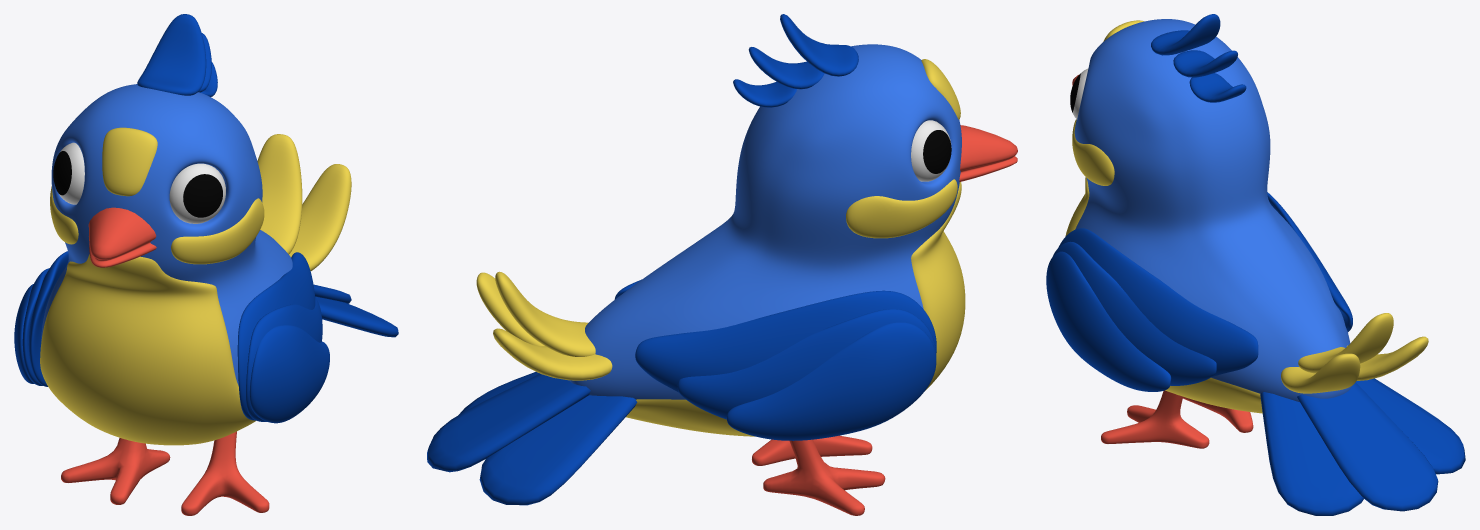
File: Bird.glb
The picture shows the model from 3 angles, left to right: view 1: azimuth 30°, elevation 25°; view 2: azimuth 150°, elevation 25°; view 3: azimuth 270°, elevation 25°; orthographic projection. The views are drawn at different scales.
Visible parts, largest first — view 1: Cube.011, Cube.029, Cube.009, Cube.012, Plane.050, Plane.052, Plane.048, Cube.037, Cube.039, Cube.034, Sphere.005, Plane.030 (+1 smaller); view 2: Cube.029, Cube.009, Plane.031, Plane.029, Cube.011, Cube.012, Cube.037, Plane.050, Plane.049, Cube.039, Plane.052, Sphere.006 (+4 smaller); view 3: Cube.029, Cube.009, Plane.029, Plane.030, Plane.031, Cube.034, Cube.011, Plane.048, Plane.050, Plane.052, Cube.012, Plane.049 (+4 smaller).
Boxes of the visible parts, x1=… form: Cube.011: x1=40, y1=254, x2=256, y2=445; Cube.029: x1=41, y1=84, x2=292, y2=385; Cube.009: x1=14, y1=251, x2=329, y2=423; Cube.012: x1=50, y1=127, x2=264, y2=264; Plane.050: x1=257, y1=134, x2=302, y2=254; Plane.052: x1=137, y1=14, x2=206, y2=95; Plane.048: x1=289, y1=164, x2=351, y2=270; Cube.037: x1=61, y1=438, x2=170, y2=504; Cube.039: x1=88, y1=207, x2=156, y2=267; Cube.034: x1=181, y1=431, x2=269, y2=515; Sphere.005: x1=169, y1=163, x2=225, y2=223; Plane.030: x1=315, y1=296, x2=398, y2=337; Cube.029: x1=569, y1=44, x2=961, y2=399; Cube.009: x1=614, y1=279, x2=936, y2=440; Plane.031: x1=479, y1=395, x2=637, y2=505; Plane.029: x1=427, y1=373, x2=590, y2=472; Cube.011: x1=626, y1=182, x2=965, y2=436; Cube.012: x1=846, y1=59, x2=960, y2=238; Cube.037: x1=763, y1=439, x2=885, y2=515; Plane.050: x1=495, y1=271, x2=595, y2=356; Plane.049: x1=493, y1=328, x2=612, y2=380; Cube.039: x1=959, y1=125, x2=1017, y2=181; Plane.052: x1=780, y1=14, x2=858, y2=76; Sphere.006: x1=911, y1=120, x2=951, y2=181; Cube.029: x1=1074, y1=19, x2=1352, y2=401; Cube.009: x1=1046, y1=192, x2=1352, y2=391; Plane.029: x1=1297, y1=382, x2=1438, y2=511; Plane.030: x1=1260, y1=392, x2=1363, y2=515; Plane.031: x1=1356, y1=378, x2=1465, y2=474; Cube.034: x1=1101, y1=390, x2=1209, y2=448; Cube.011: x1=1065, y1=177, x2=1262, y2=413; Plane.048: x1=1281, y1=353, x2=1360, y2=393; Plane.050: x1=1298, y1=313, x2=1393, y2=373; Plane.052: x1=1151, y1=14, x2=1220, y2=55; Cube.012: x1=1072, y1=20, x2=1144, y2=185; Plane.049: x1=1347, y1=336, x2=1428, y2=380.
Size of the model in its own units: 5.36 by 5.51 by 5.
